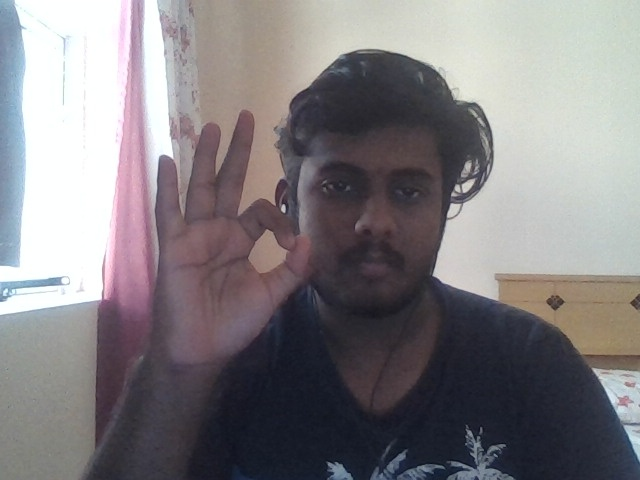thumbsup: (91, 175, 203, 395)
